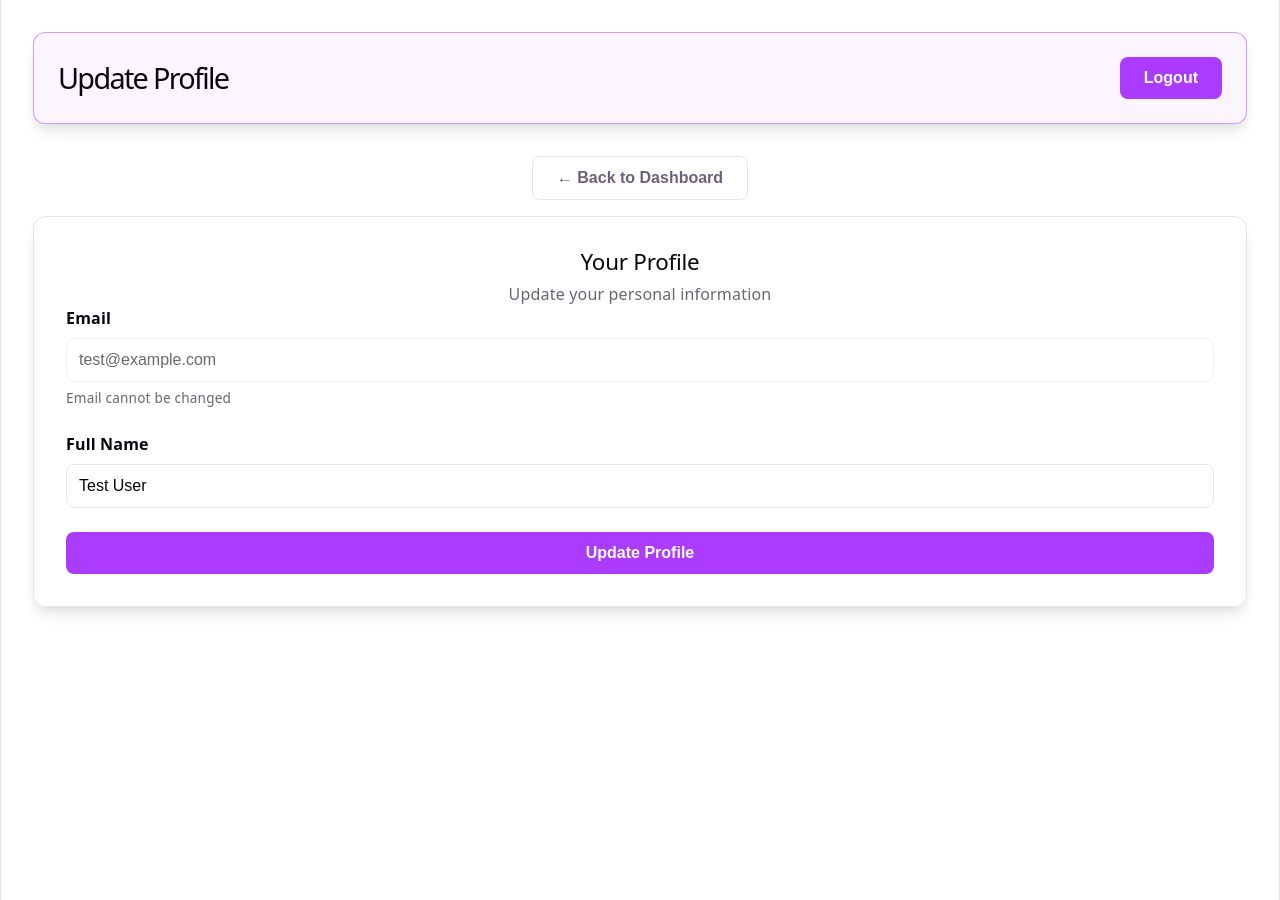
UpdateProfilePage › should show loading state while submitting
The width and height of the screenshot is (1280, 900).
Replace the text in the field labelled "Full Name" with "Updated Name" at (640,486), box x1=66 y1=464 x2=1214 y2=508
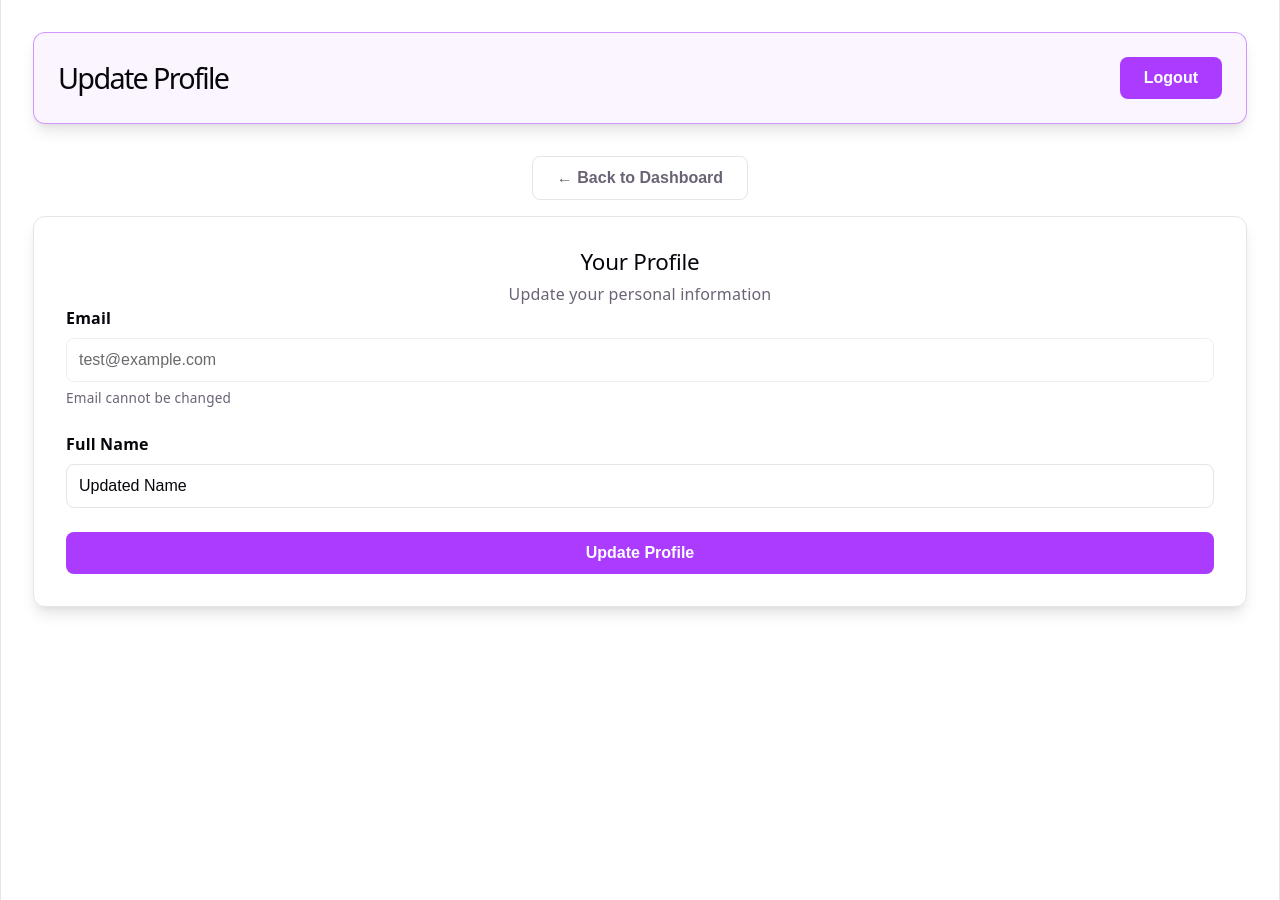
Click the button "Update Profile" at (640,553), box x1=66 y1=532 x2=1214 y2=574
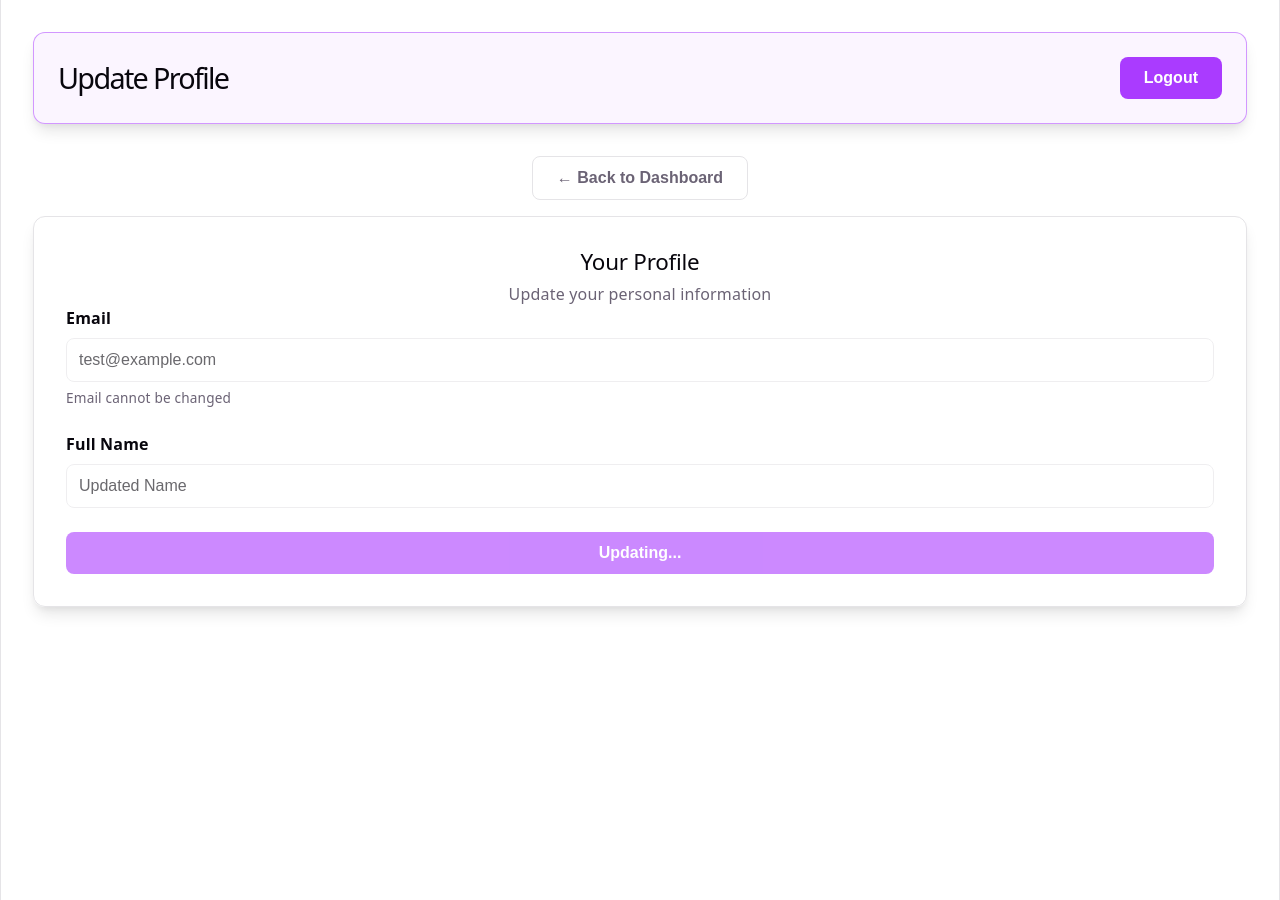
Now the button "Updating..." is shown, box x1=66 y1=532 x2=1214 y2=574
Now the field labelled "Full Name" is disabled, box x1=66 y1=464 x2=1214 y2=508
